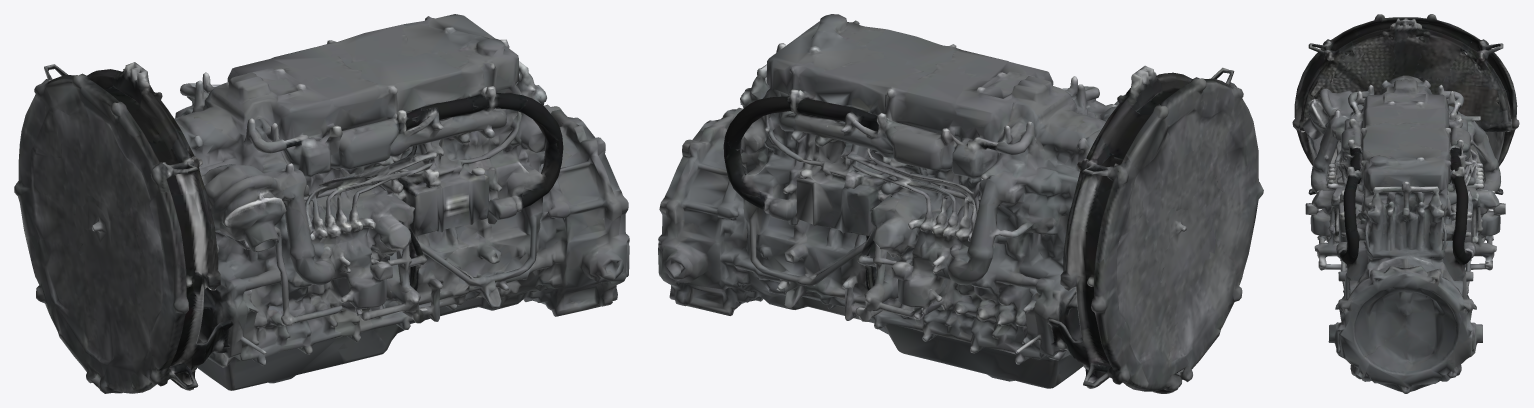
Rendered from motor-isuzu-6hk1.glb.
3 views of the same model, side by side, from view 1: azimuth 30°, elevation 25°; view 2: azimuth 150°, elevation 25°; view 3: azimuth 270°, elevation 25° (orthographic). The views are drawn at different scales.
Size of the model in its own units: 1.9 by 1.26 by 1.13.
1 material, 1 textured.
